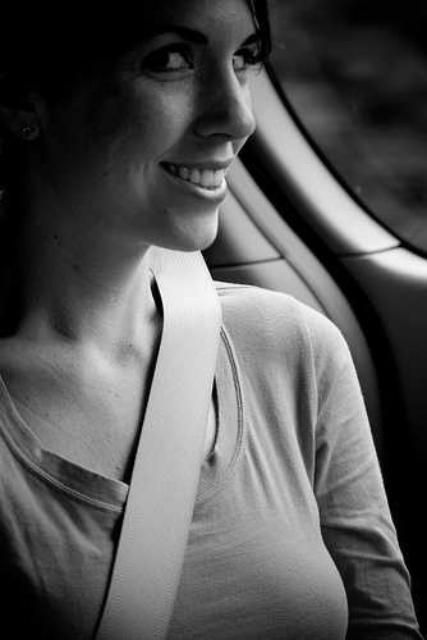SafeDriving: (131, 31, 202, 87)
Seatbelt: (92, 240, 228, 640)
